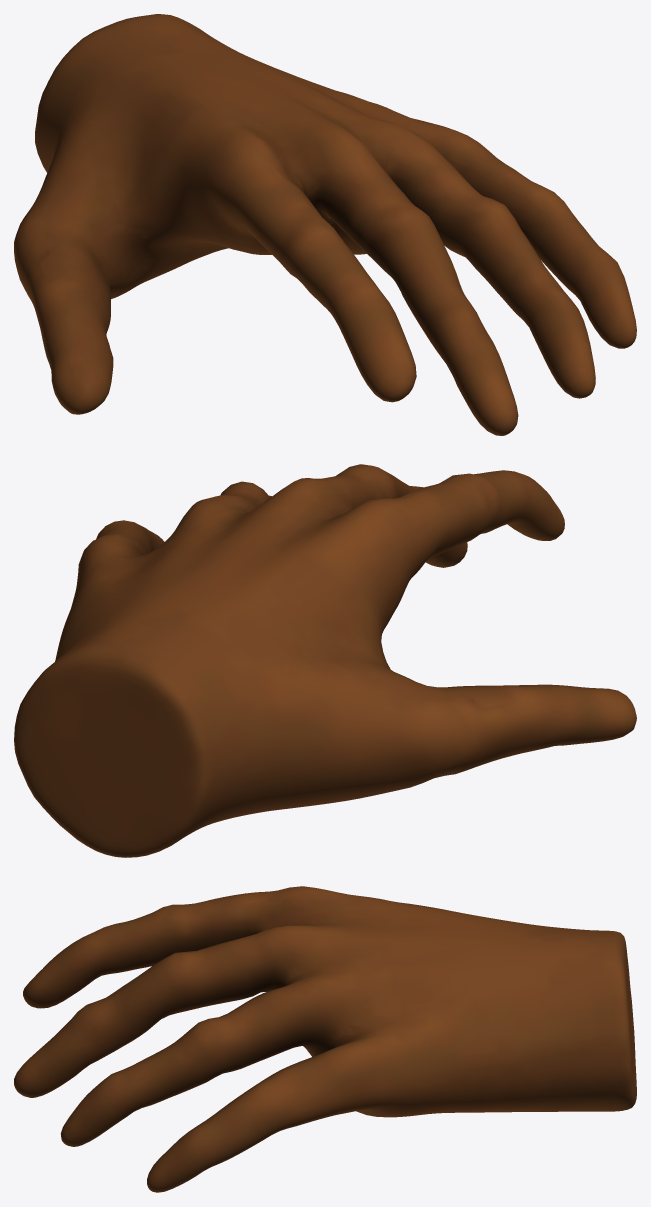
File: SlappinGodHand.fbx
3 views of the same model, one above another, from view 1: azimuth 30°, elevation 25°; view 2: azimuth 150°, elevation 25°; view 3: azimuth 270°, elevation 25° (orthographic). The views are drawn at different scales.
Parts seen in each view (by area): view 1: SlappinGodHand; view 2: SlappinGodHand; view 3: SlappinGodHand.
Boxes of the visible parts, box(x1,y1,x2,y2) form: SlappinGodHand: box(14, 14, 636, 435); SlappinGodHand: box(14, 464, 636, 857); SlappinGodHand: box(14, 886, 636, 1192).
Bounding box in the file's own units: 1.16 × 0.4623 × 1.39.
1 material, 1 textured.
